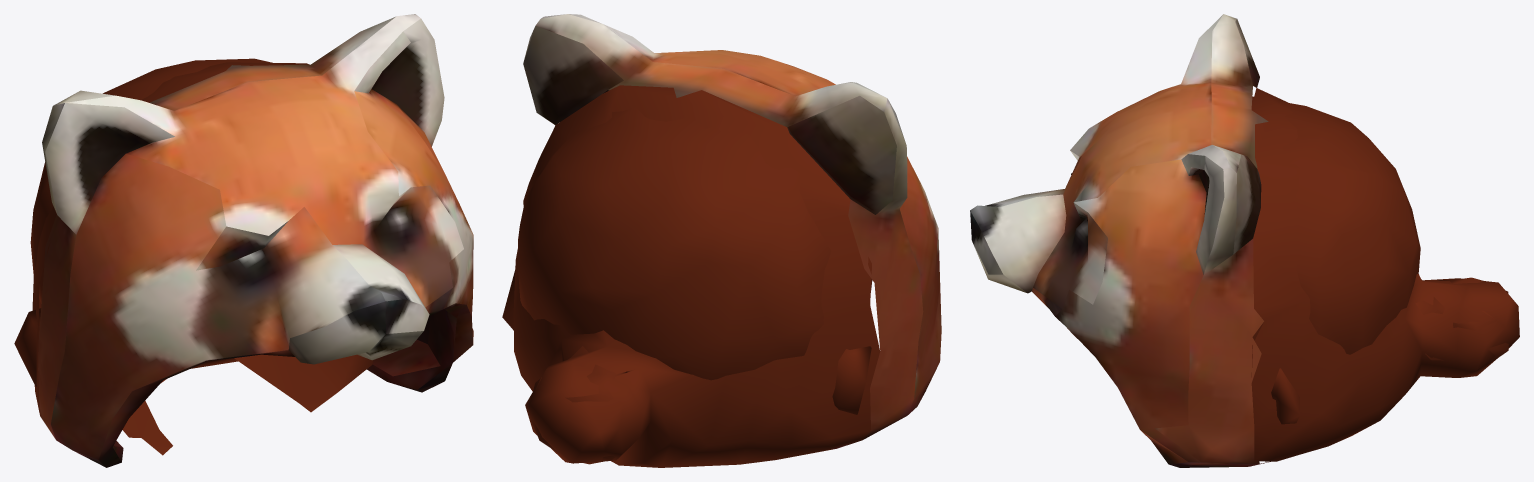
Rendered from red-panda.glb.
3 views of the same model, side by side, from view 1: azimuth 30°, elevation 25°; view 2: azimuth 150°, elevation 25°; view 3: azimuth 270°, elevation 25° (orthographic). The views are drawn at different scales.
Visible parts, largest first — view 1: geometry_0, HoodAnatomicalLining; view 2: geometry_0, HoodAnatomicalLining; view 3: geometry_0, HoodAnatomicalLining.
Part boxes in pixels (x1,y1,x2,y2): geometry_0: (32,14,473,467); HoodAnatomicalLining: (14,58,373,455); geometry_0: (513,14,941,467); HoodAnatomicalLining: (502,91,872,414); geometry_0: (970,14,1519,467); HoodAnatomicalLining: (1251,96,1420,424).
Bounding box in the file's own units: 0.4898 × 0.4439 × 0.6674.
Materials: 2 (1 with a texture image).
